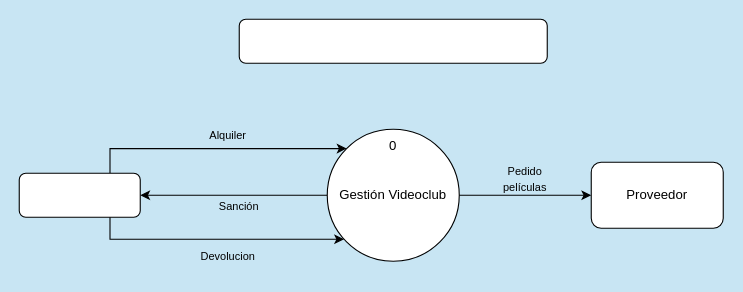
This 743x292 diagram has some shape labels left out. The shapes that lost their labels are listed below. From the top down, each one's centre as x and y in pixels, then its label:
point (392, 40): Diagrama de contexto
point (79, 194): Clientes
